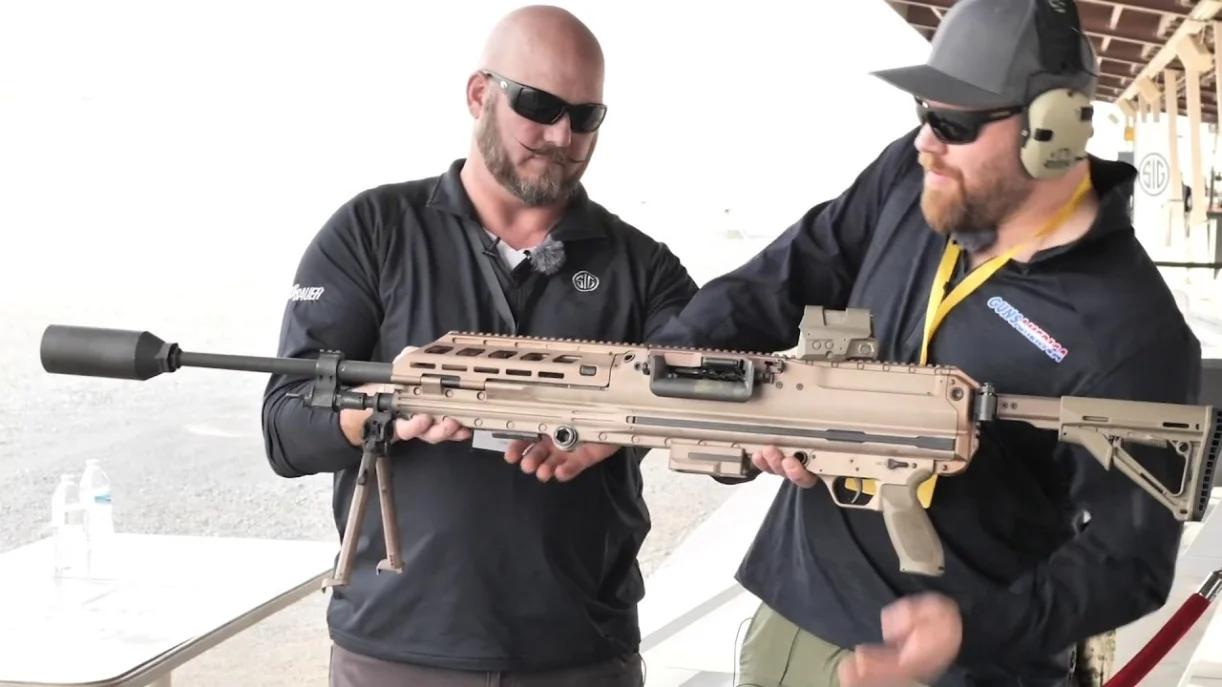larga: (41, 305, 1222, 579)
